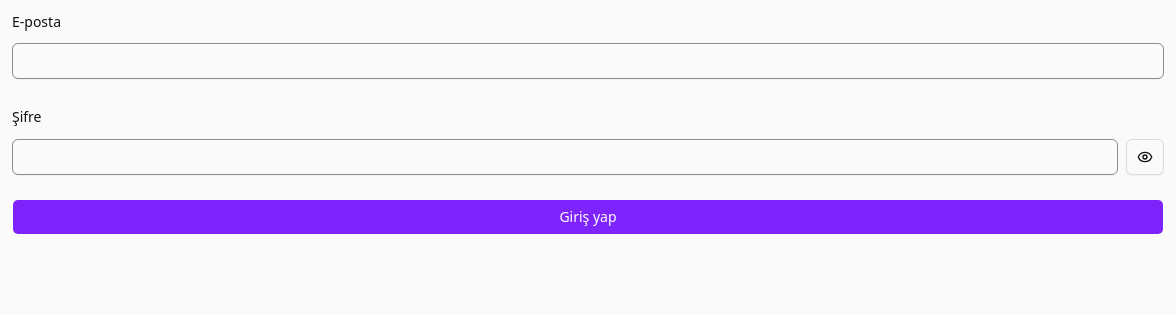
Test: LoginForm › asks for both fields before sending anything
Click the button "Giriş yap". click: (588, 216)
box: [12, 198, 1164, 234]
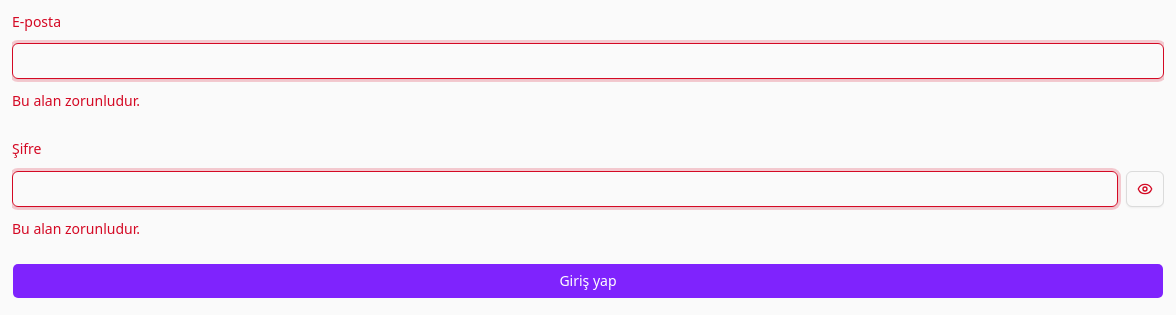
Now the text "Bu alan zorunludur." is shown 2 times, box [12, 91, 140, 110]; [12, 218, 140, 238]
